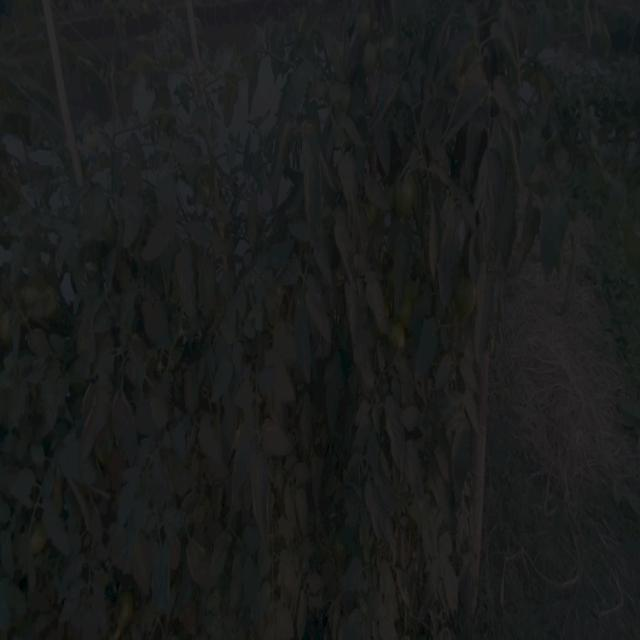tomato: (387, 172, 420, 213), (23, 286, 60, 320), (25, 524, 52, 565), (118, 589, 136, 636), (378, 329, 408, 352), (1, 304, 17, 347), (361, 43, 379, 75), (83, 130, 104, 154), (399, 300, 416, 327), (357, 16, 373, 42), (381, 37, 396, 64), (466, 283, 479, 312)
